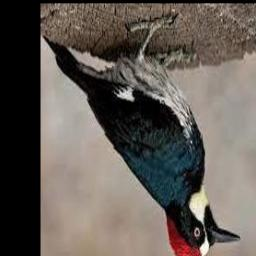Woodpecker: (43, 18, 241, 256)
